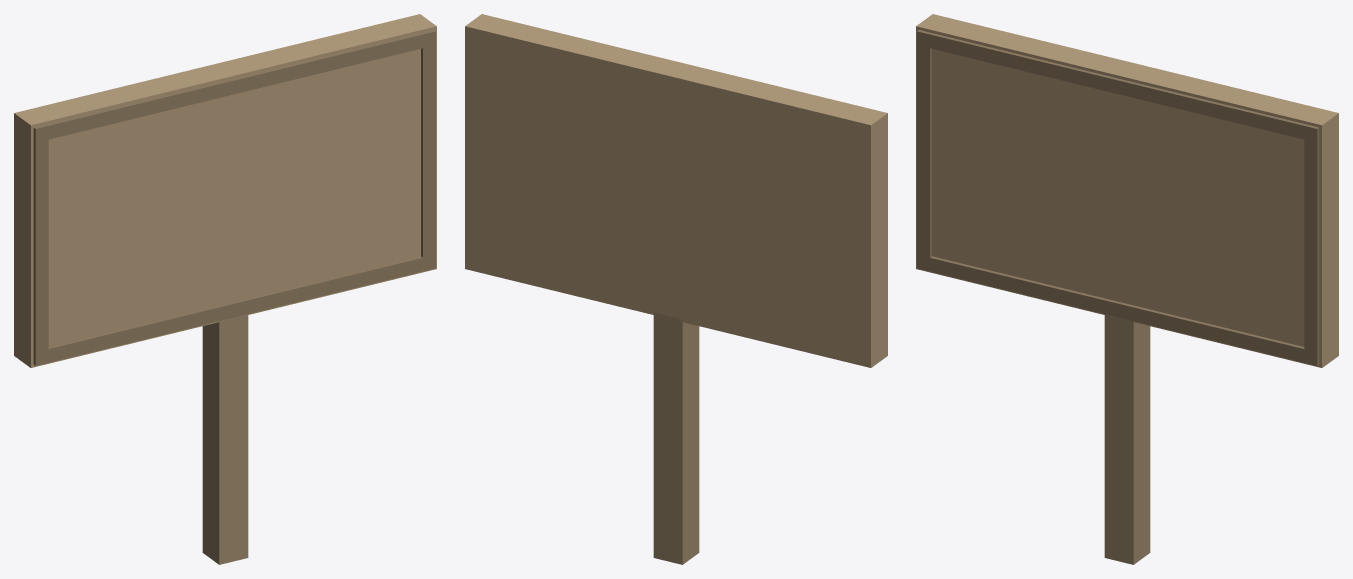
The model's file is sign_spruce_stand.gltf.
The picture shows the model from 3 angles, left to right: view 1: azimuth 30°, elevation 25°; view 2: azimuth 150°, elevation 25°; view 3: azimuth 330°, elevation 25°; orthographic projection.
Visible parts, largest first — view 1: sign_spruce_stand; view 2: sign_spruce_stand; view 3: sign_spruce_stand.
Boxes of the visible parts, x1,y1,x2,y2 form: sign_spruce_stand: [14, 14, 436, 564]; sign_spruce_stand: [465, 14, 887, 564]; sign_spruce_stand: [916, 14, 1338, 564].
Size of the model in its own units: 0.875 by 1 by 0.07.
